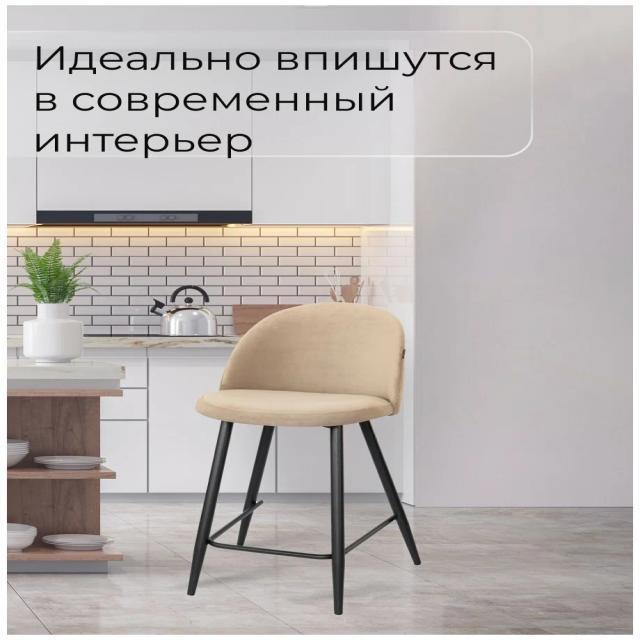chair: (184, 299, 426, 617), (180, 296, 424, 438)
